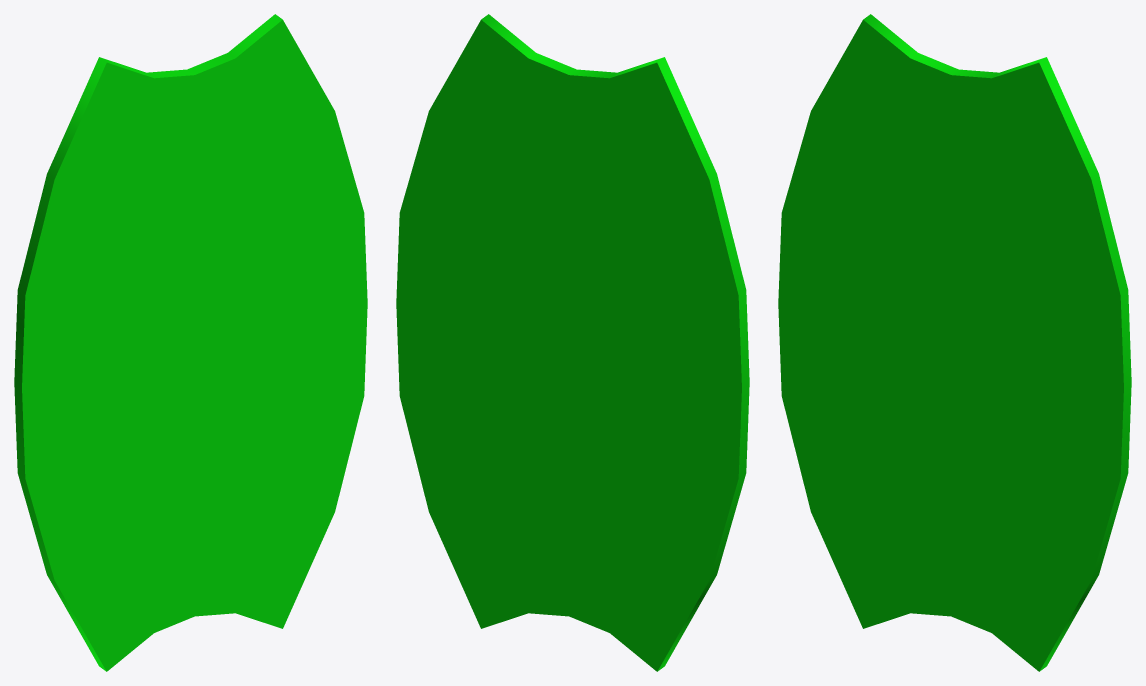
The model's file is oval_05_b.glb.
3 views of the same model, side by side, from view 1: azimuth 30°, elevation 25°; view 2: azimuth 150°, elevation 25°; view 3: azimuth 330°, elevation 25° (orthographic).
Parts seen in each view (by area): view 1: longboat_008-mesh; view 2: longboat_008-mesh; view 3: longboat_008-mesh.
Boxes of the visible parts, <box> form: longboat_008-mesh: <box>14,14,367,671</box>; longboat_008-mesh: <box>396,14,749,671</box>; longboat_008-mesh: <box>778,14,1131,671</box>.
Bounding box in the file's own units: 1.2 × 2.02 × 0.0461.
